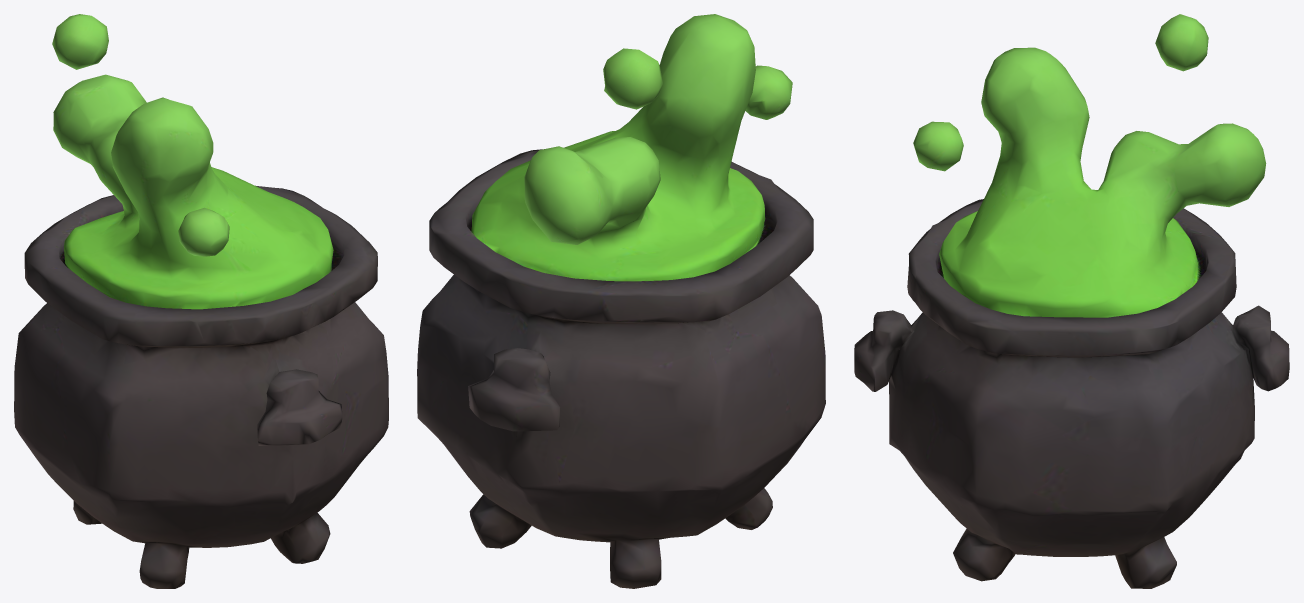
File: cauldron.glb
3 views of the same model, side by side, from view 1: azimuth 30°, elevation 25°; view 2: azimuth 150°, elevation 25°; view 3: azimuth 270°, elevation 25° (orthographic). The views are drawn at different scales.
Parts seen in each view (by area): view 1: tripo_node_531473ab-1a68-4ebf-a1ff-def77fc8a96b; view 2: tripo_node_531473ab-1a68-4ebf-a1ff-def77fc8a96b; view 3: tripo_node_531473ab-1a68-4ebf-a1ff-def77fc8a96b.
Part boxes in pixels (x1=…): tripo_node_531473ab-1a68-4ebf-a1ff-def77fc8a96b: x1=14, y1=14, x2=388, y2=588; tripo_node_531473ab-1a68-4ebf-a1ff-def77fc8a96b: x1=417, y1=14, x2=825, y2=588; tripo_node_531473ab-1a68-4ebf-a1ff-def77fc8a96b: x1=854, y1=14, x2=1289, y2=588.
Bounding box in the file's own units: 0.6082 × 1 × 0.7935.
Materials: 1 (1 with a texture image).
